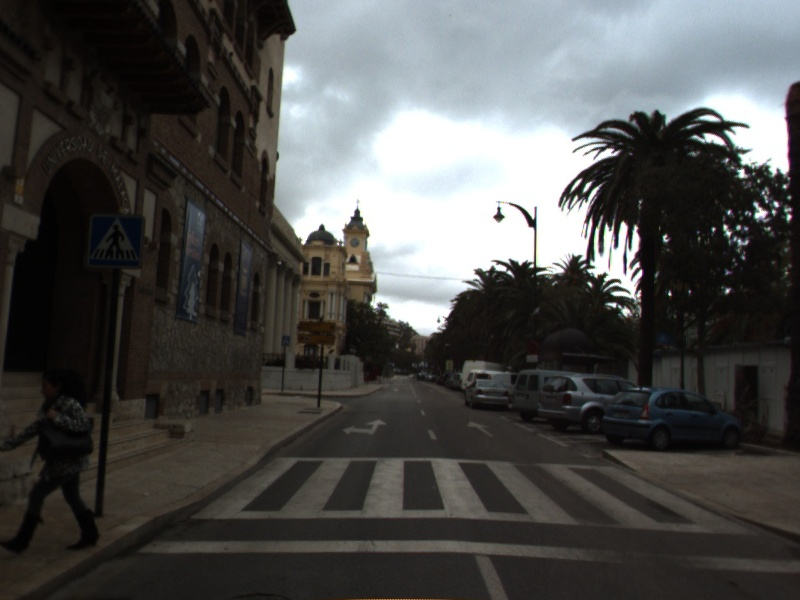STRAIGHT: (465, 418, 496, 439)
STRAIGHT_LEFT: (339, 417, 389, 437)
